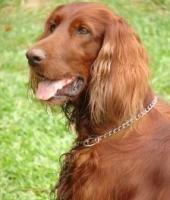Irish_setter: (23, 1, 169, 199)
